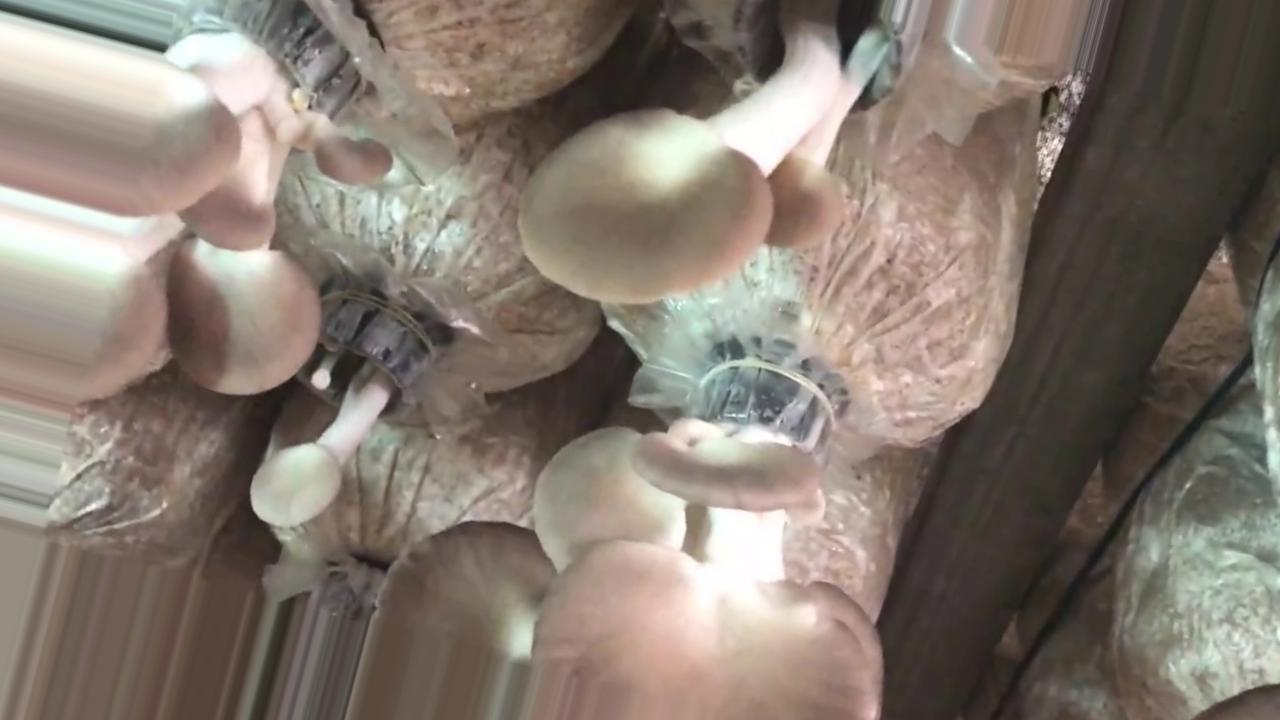nam: (354, 355, 881, 720), (1, 2, 391, 395), (517, 1, 934, 302), (248, 284, 437, 525)
